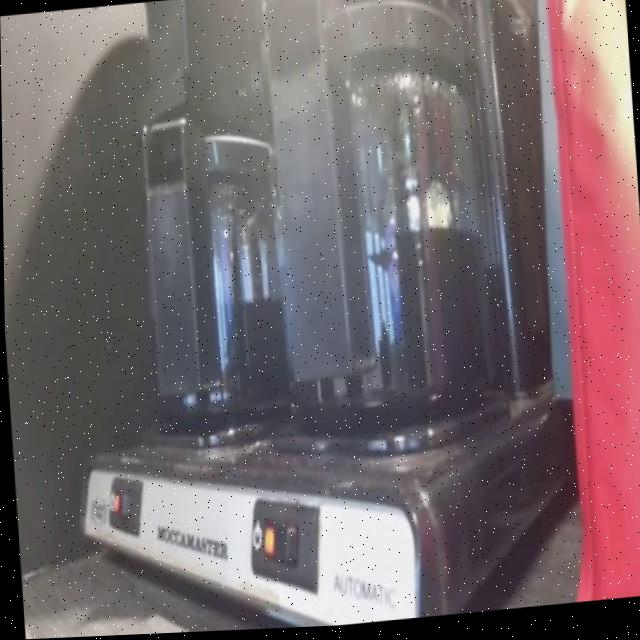coffee: (270, 8, 501, 447), (130, 117, 318, 443)
